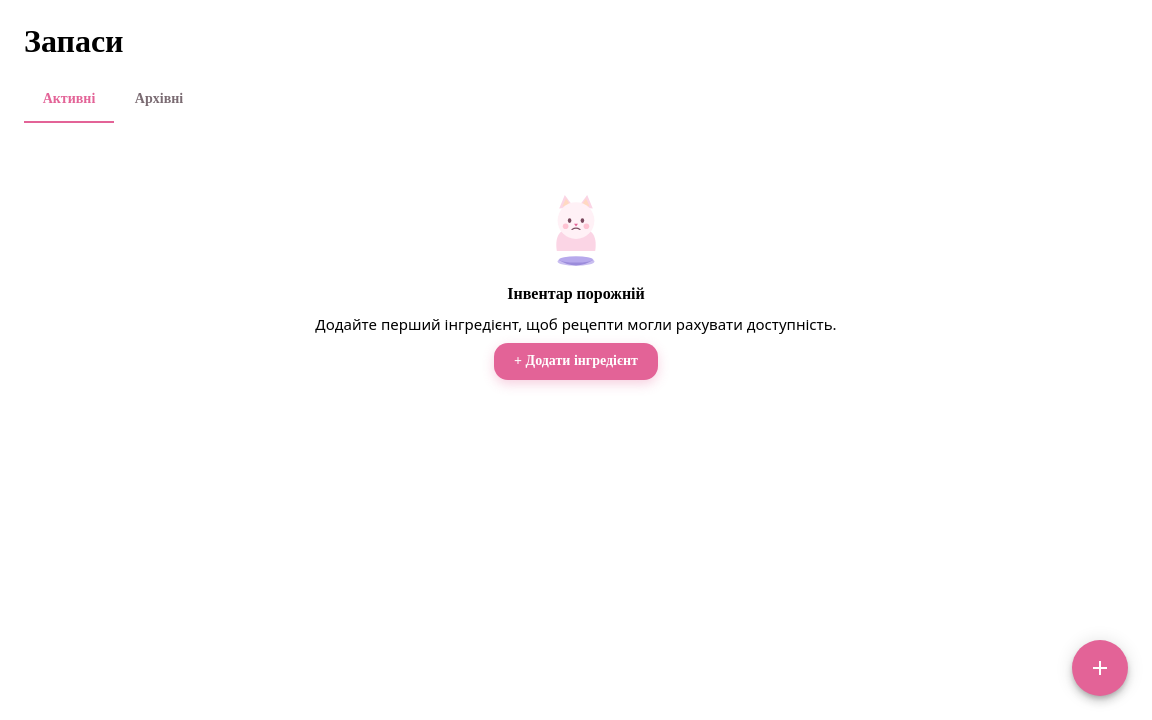
Scenario: InventoryPage create dialog › hides quantity and low-stock inputs when tracking mode is presence
Click the button named "Додати інгредієнт". click: (1100,668)
box: [1072, 640, 1128, 696]
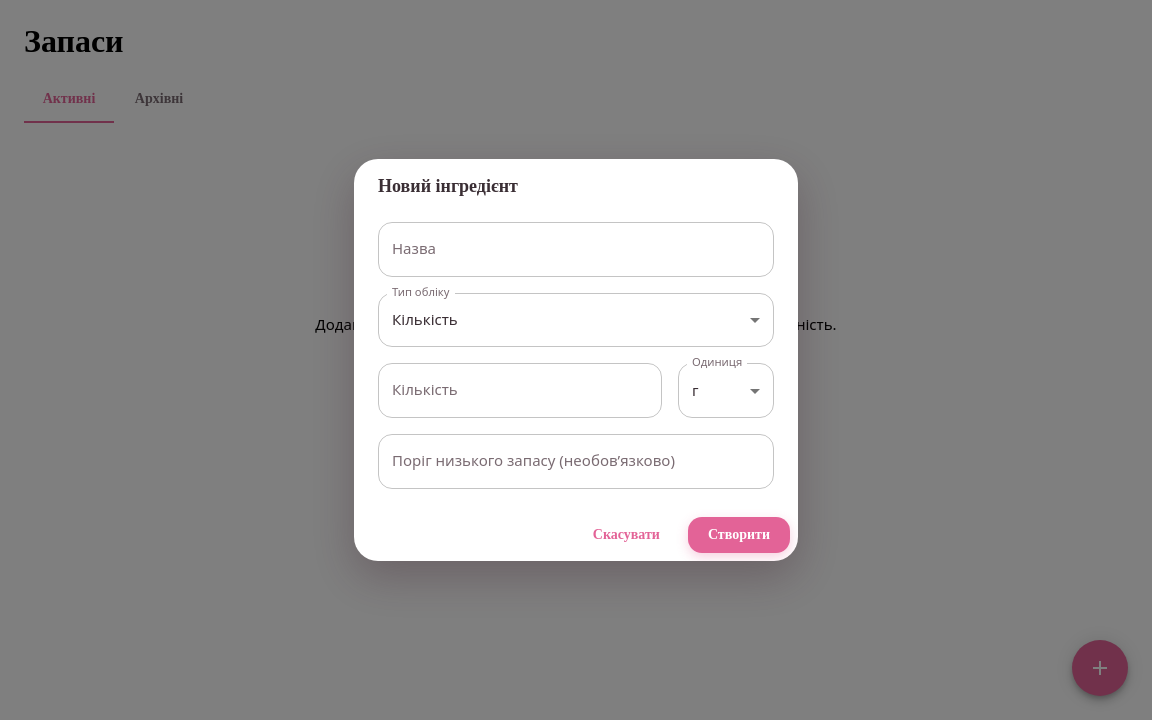
Select "Наявність" in the dropdown labelled "Тип обліку". click: (576,320)
box: [378, 293, 774, 348]
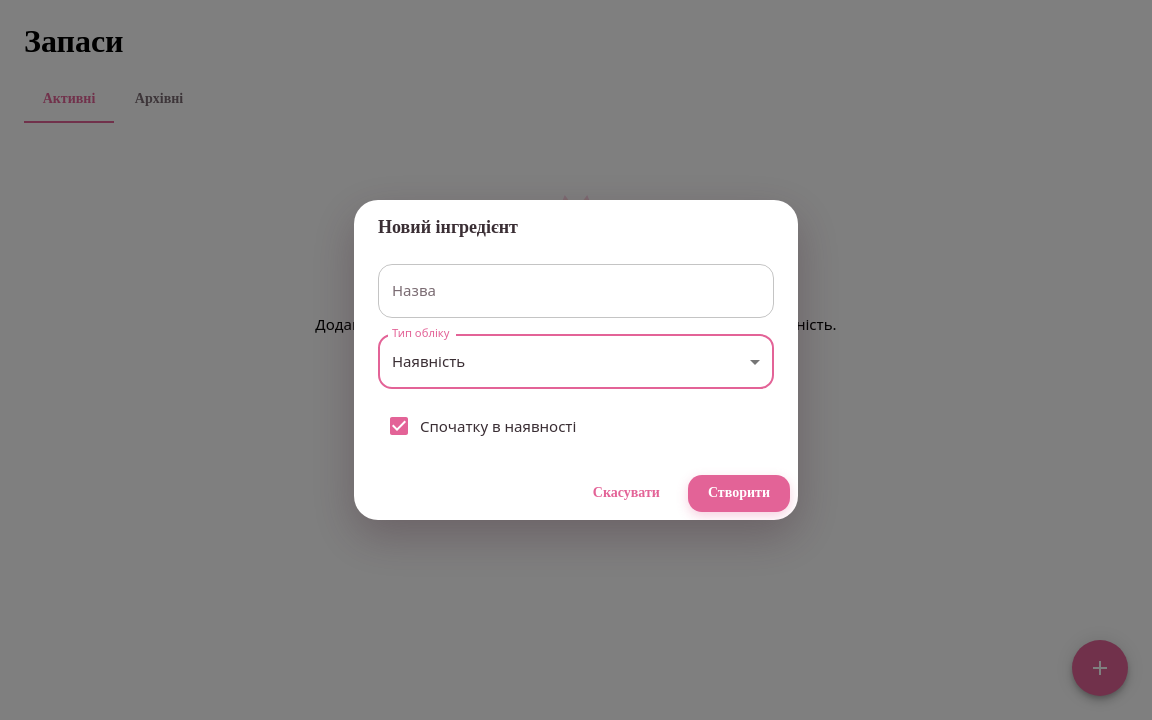
Now the label labelled "Кількість" is gone
Now the label labelled "Поріг низького запасу" is gone
